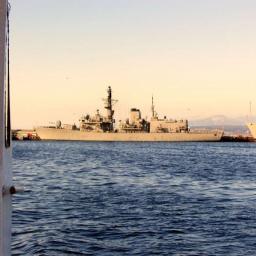Fragata: (34, 83, 227, 144)
